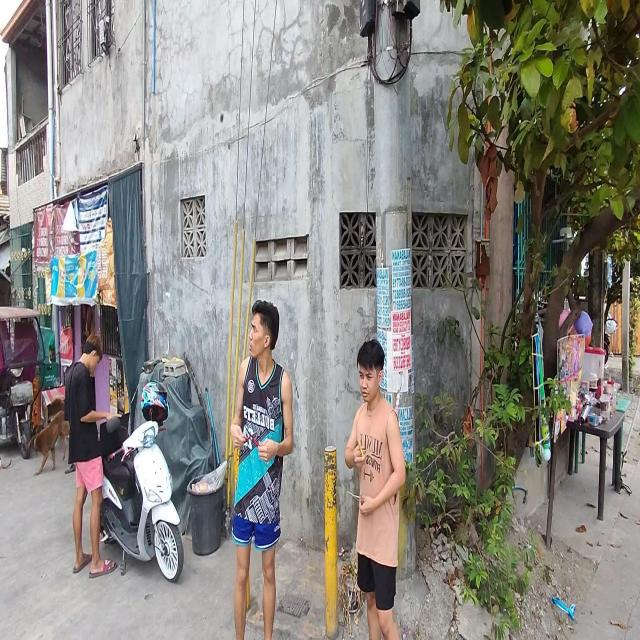scissor: (244, 425, 266, 449)
